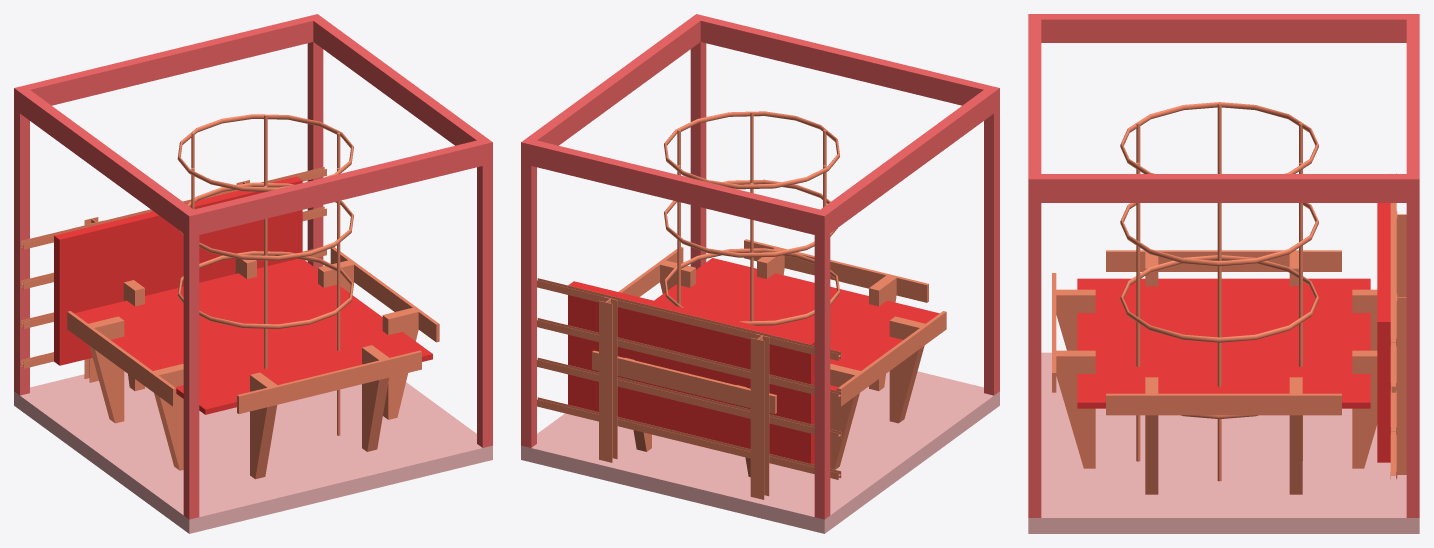
The picture shows the model from 3 angles, left to right: view 1: azimuth 30°, elevation 25°; view 2: azimuth 150°, elevation 25°; view 3: azimuth 270°, elevation 25°; orthographic projection. The views are drawn at different scales.
Visible parts, largest first — view 1: 物件_32, 物件_12, 物件_20, 物件_39, 物件_38, 物件_37, 物件_35, 物件_40, 物件_33, 物件_36, 物件_2, 物件_34 (+16 smaller); view 2: 物件_32, 物件_20, 物件_12, 物件_38, 物件_39, 物件_37, 物件_36, 物件_40, 物件_34, 物件_35, 物件_14, 物件_33 (+17 smaller); view 3: 物件_32, 物件_12, 物件_40, 物件_37, 物件_1, 物件_33, 物件_34, 物件_20, 物件_3, 物件_13, 物件_38, 物件_39 (+15 smaller).
Part boxes in pixels (box(x1,y1,x2,y2)): 物件_32: box(14, 371, 492, 533); 物件_12: box(74, 258, 432, 414); 物件_20: box(54, 176, 302, 365); 物件_39: box(183, 138, 492, 236); 物件_38: box(14, 14, 322, 105); 物件_37: box(14, 85, 199, 236); 物件_35: box(183, 209, 199, 519); 物件_40: box(309, 14, 492, 158); 物件_33: box(477, 138, 492, 447); 物件_36: box(14, 85, 29, 395); 物件_2: box(237, 350, 421, 413); 物件_34: box(307, 14, 323, 269); 物件_32: box(521, 371, 999, 533); 物件_20: box(568, 281, 814, 464); 物件_12: box(654, 258, 939, 390); 物件_38: box(521, 138, 830, 236); 物件_39: box(693, 15, 999, 105); 物件_37: box(814, 86, 999, 236); 物件_36: box(814, 209, 830, 519); 物件_40: box(521, 15, 704, 161); 物件_34: box(521, 138, 536, 447); 物件_35: box(984, 86, 999, 395); 物件_14: box(750, 334, 769, 499); 物件_33: box(690, 14, 706, 269); 物件_32: box(1028, 352, 1419, 533); 物件_12: box(1077, 278, 1370, 408); 物件_40: box(1028, 174, 1419, 202); 物件_37: box(1028, 14, 1419, 42); 物件_1: box(1106, 393, 1341, 415); 物件_33: box(1028, 174, 1041, 517); 物件_34: box(1406, 174, 1419, 517); 物件_20: box(1377, 203, 1390, 462); 物件_3: box(1106, 250, 1341, 271); 物件_13: box(1056, 350, 1095, 468); 物件_38: box(1406, 14, 1419, 202); 物件_39: box(1028, 14, 1041, 202).
Size of the model in its own units: 48.57 by 48 by 48.
